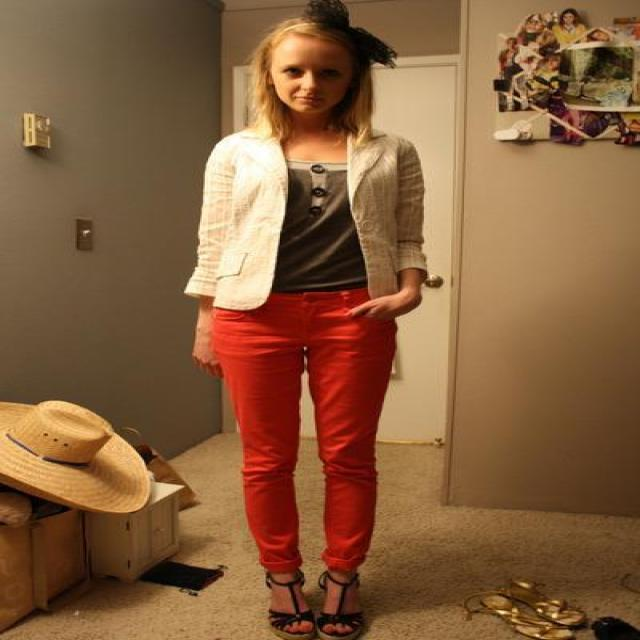jacket: (184, 120, 426, 308)
pants: (211, 289, 397, 575)
shirt: (270, 155, 366, 293)
shoe: (269, 578, 373, 639)
